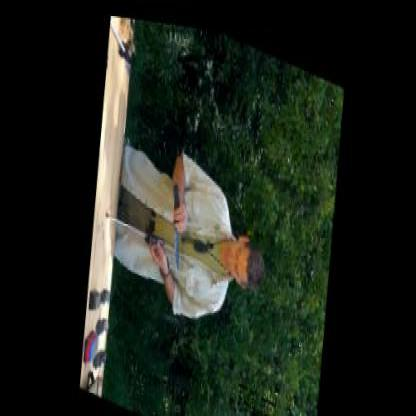knife: (162, 172, 187, 271)
